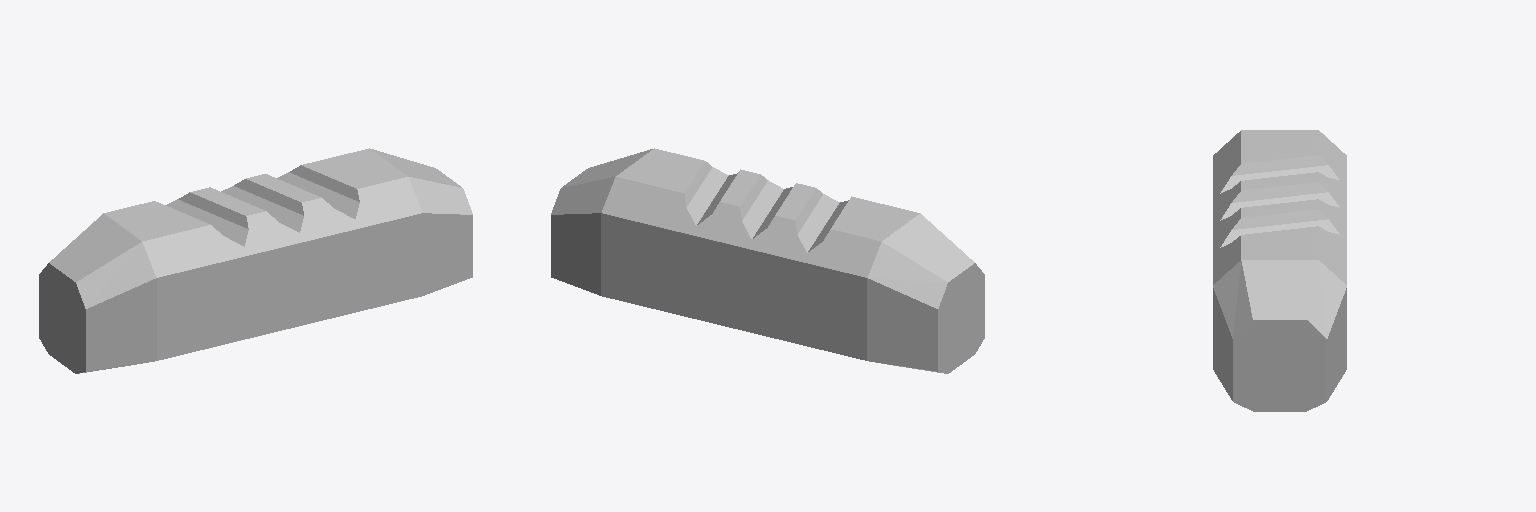
The model's file is loafBaguette.obj.
3 renders of one model, left to right at view 1: azimuth 30°, elevation 25°; view 2: azimuth 150°, elevation 25°; view 3: azimuth 270°, elevation 25°, orthographic.
Parts seen in each view (by area): view 1: loafBaguette; view 2: loafBaguette; view 3: loafBaguette.
Boxes of the visible parts, box(x1,y1,x2,y2) form: loafBaguette: box(39, 148, 472, 373); loafBaguette: box(551, 148, 984, 373); loafBaguette: box(1213, 130, 1346, 411).
Bounding box in the file's own units: 0.83 × 0.25 × 0.25.